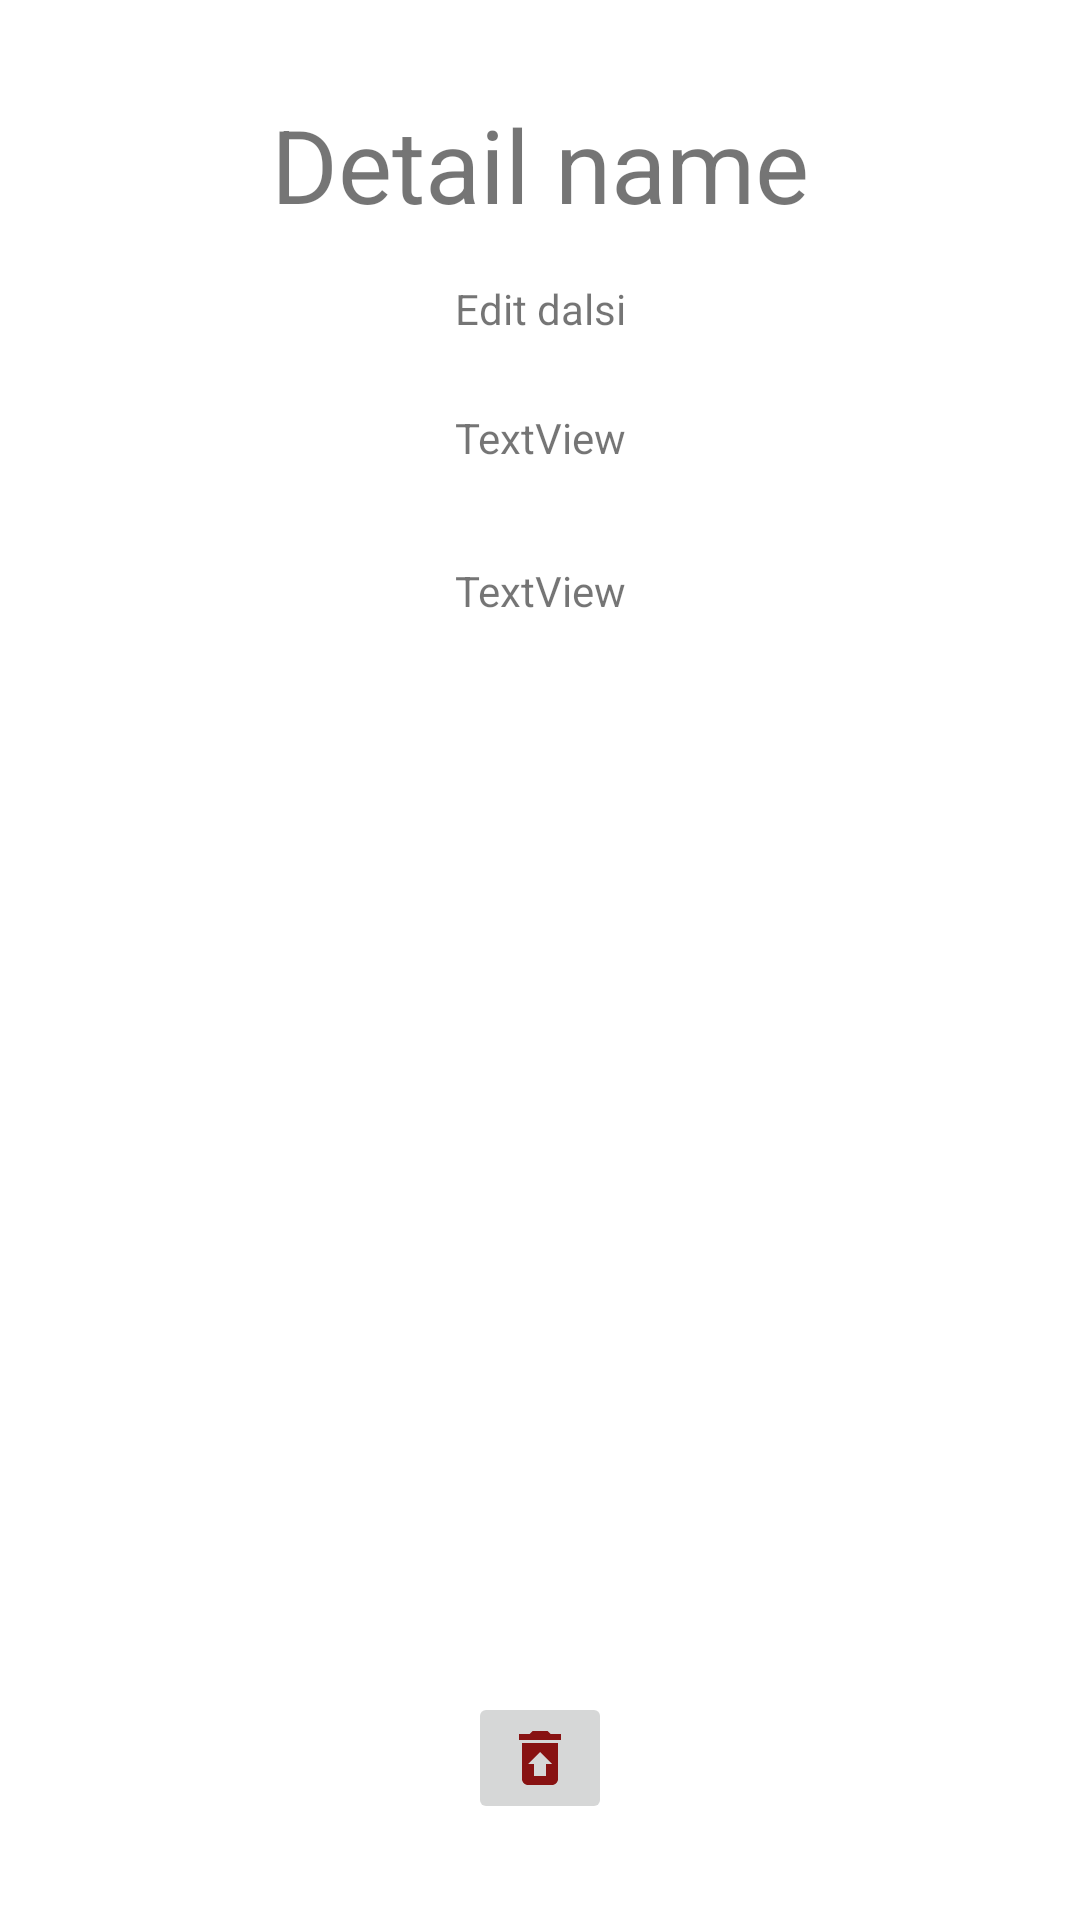

Where to tap for icons on this 1080px×1920px app screen, as point (x, y):
restore from trash: point (540, 1758)
